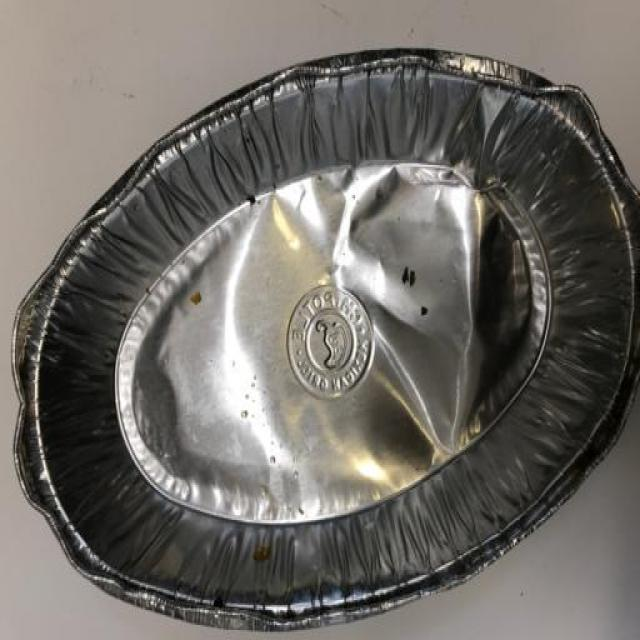metel: (27, 83, 640, 589)
